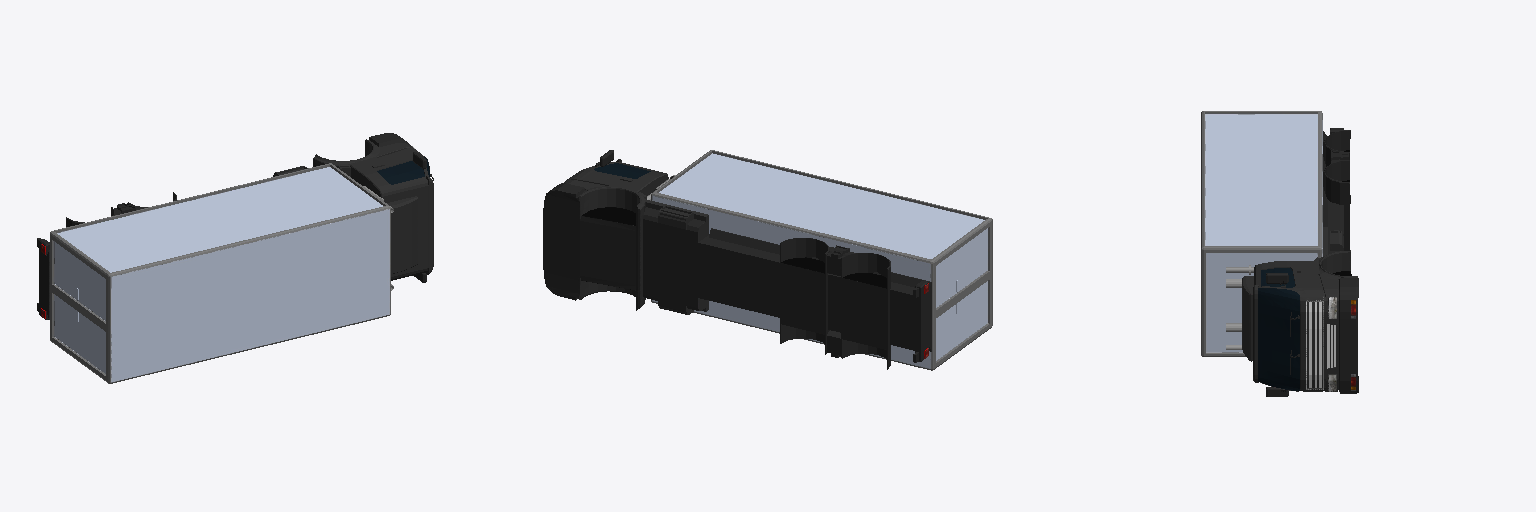
The picture shows the model from 3 angles: view 1: azimuth 30°, elevation 25°; view 2: azimuth 150°, elevation 25°; view 3: azimuth 270°, elevation 25°; orthographic projection.
Visible parts, largest first — view 1: Truck_Chassis_0409; view 2: Truck_Chassis_0409; view 3: Truck_Chassis_0409.
Boxes of the visible parts, box(x1,y1,x2,y2) form: Truck_Chassis_0409: box(37, 133, 433, 383); Truck_Chassis_0409: box(543, 150, 992, 370); Truck_Chassis_0409: box(1201, 111, 1358, 396).
Size of the model in its own units: 11.48 by 3.64 by 4.21.
Materials: 3 (3 with a texture image).